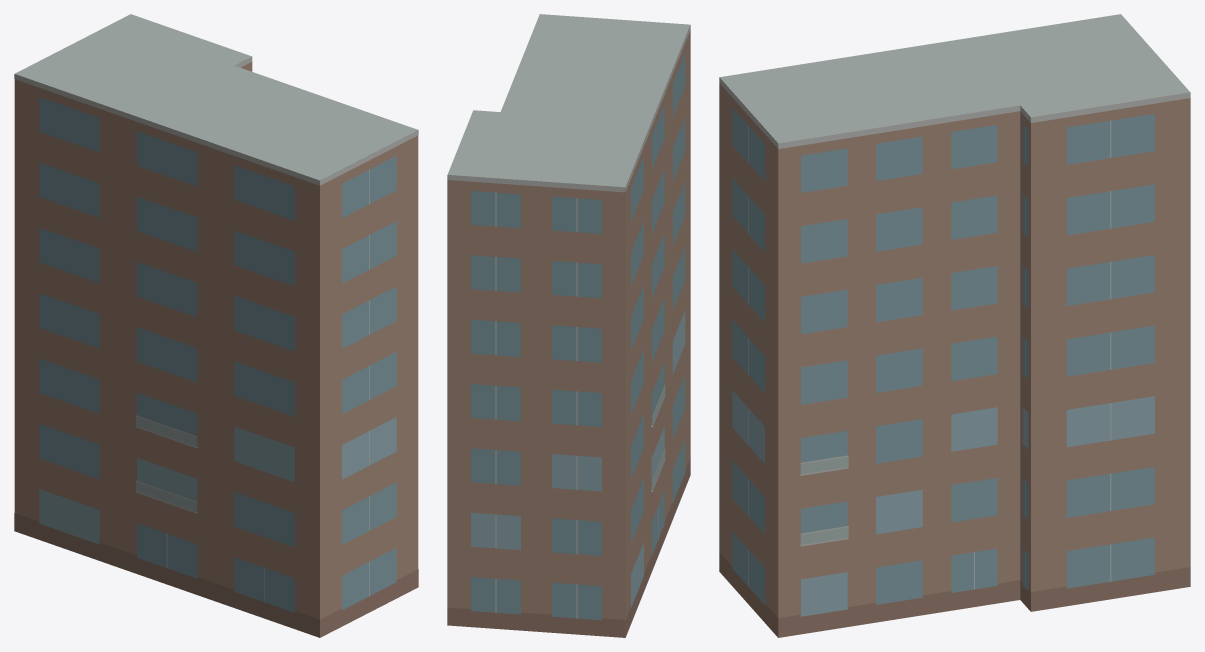
Rendered from survey-upis-33014333.glb.
The picture shows the model from 3 angles, left to right: view 1: azimuth 30°, elevation 25°; view 2: azimuth 150°, elevation 25°; view 3: azimuth 270°, elevation 25°; orthographic projection. The views are drawn at different scales.
Visible parts, largest first — view 1: survey-upis-33014333.tmp; view 2: survey-upis-33014333.tmp; view 3: survey-upis-33014333.tmp.
Boxes of the visible parts, left/top/right/bottom form: survey-upis-33014333.tmp: left=14, top=14, right=418, bottom=637; survey-upis-33014333.tmp: left=447, top=14, right=690, bottom=637; survey-upis-33014333.tmp: left=719, top=14, right=1190, bottom=637.
Size of the model in its own units: 12.01 by 21.35 by 18.45.
